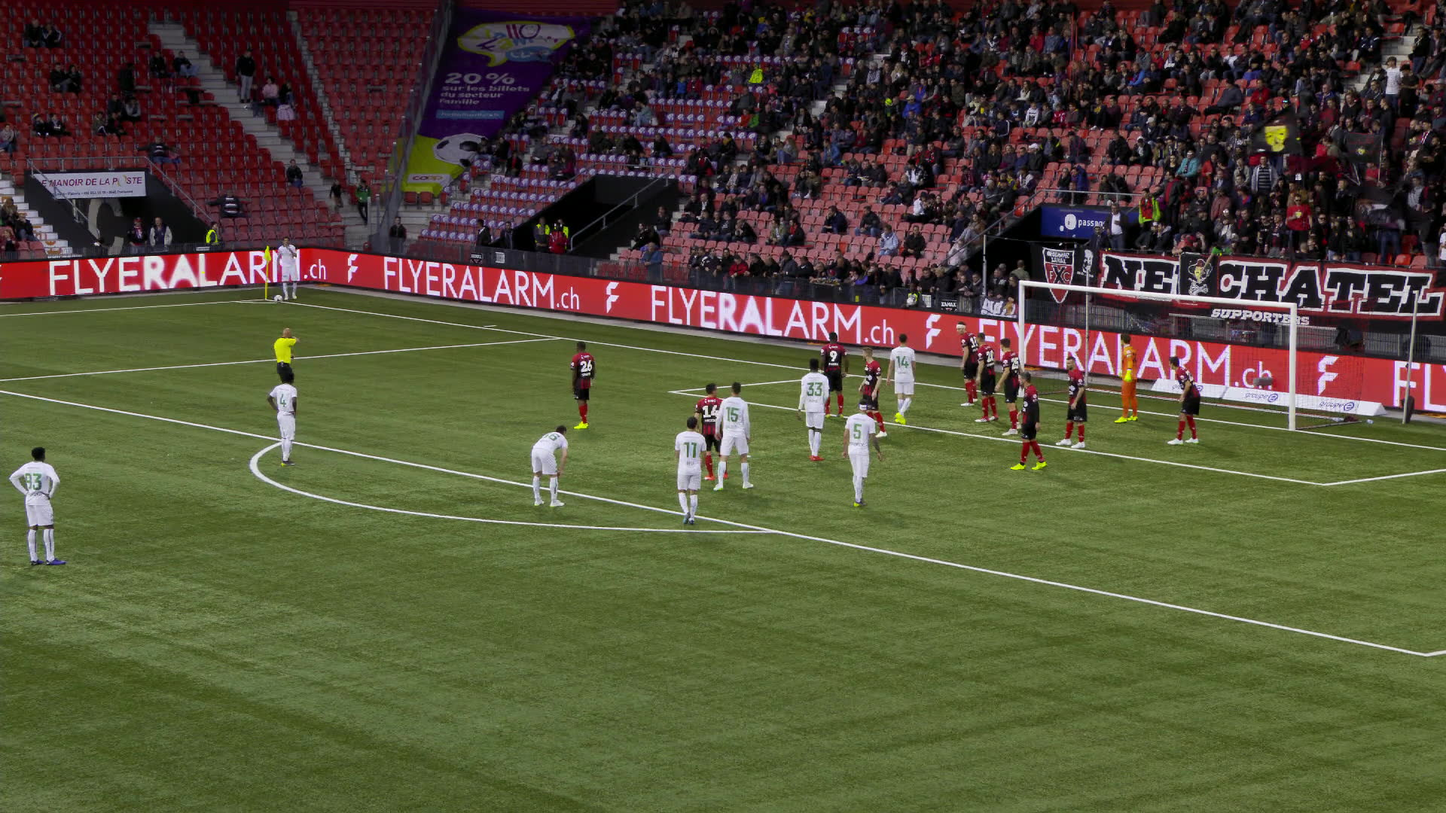ball: (274, 294, 282, 302)
player: (10, 446, 67, 564), (712, 382, 753, 489), (841, 399, 878, 506), (674, 416, 706, 526), (1010, 372, 1045, 469), (795, 358, 828, 460), (694, 383, 728, 479), (529, 425, 566, 505), (1167, 355, 1200, 443), (267, 372, 296, 465), (886, 334, 916, 423), (1057, 355, 1085, 448), (859, 347, 887, 437), (820, 331, 849, 416), (996, 337, 1019, 434), (1113, 333, 1138, 422), (570, 341, 595, 428), (973, 333, 996, 422), (956, 321, 978, 405), (279, 236, 297, 299)
referee: (273, 327, 298, 381)
